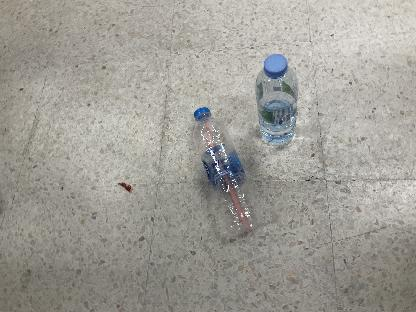Plastic Bottle: (192, 106, 258, 238), (255, 54, 299, 148)
